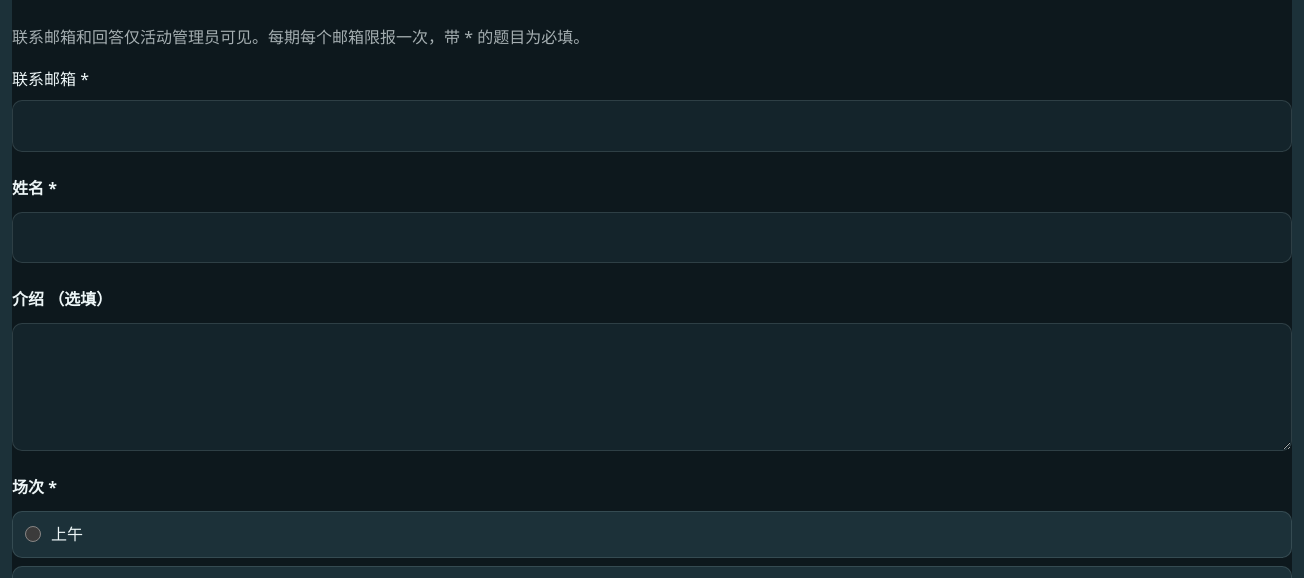
Test: inline learning survey registration › reuses a learning receipt saved before a failed submit and preserves other surveys
This screenshot has width=1304, height=578.
Expected: the field named "姓名" is shown, [12,212,1292,263]
Type "guest@example.com" into the field labelled "联系邮箱 *" at (652, 126), box [12,100,1292,152]
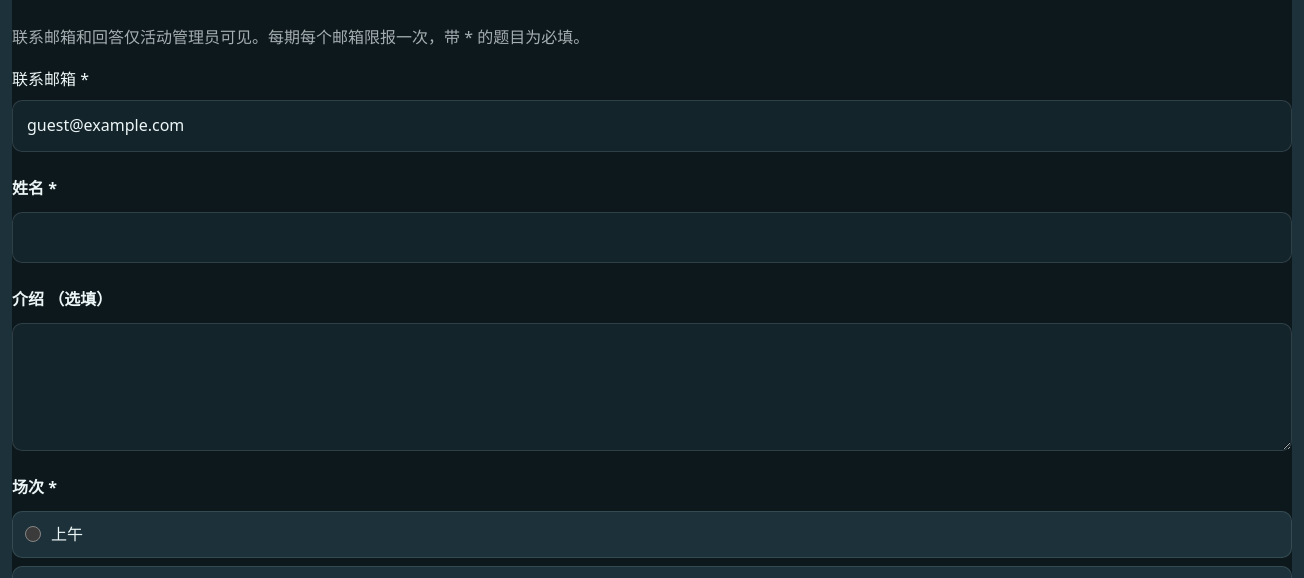
Type "Guest" into the field named "姓名" at (652, 237), box [12,212,1292,263]
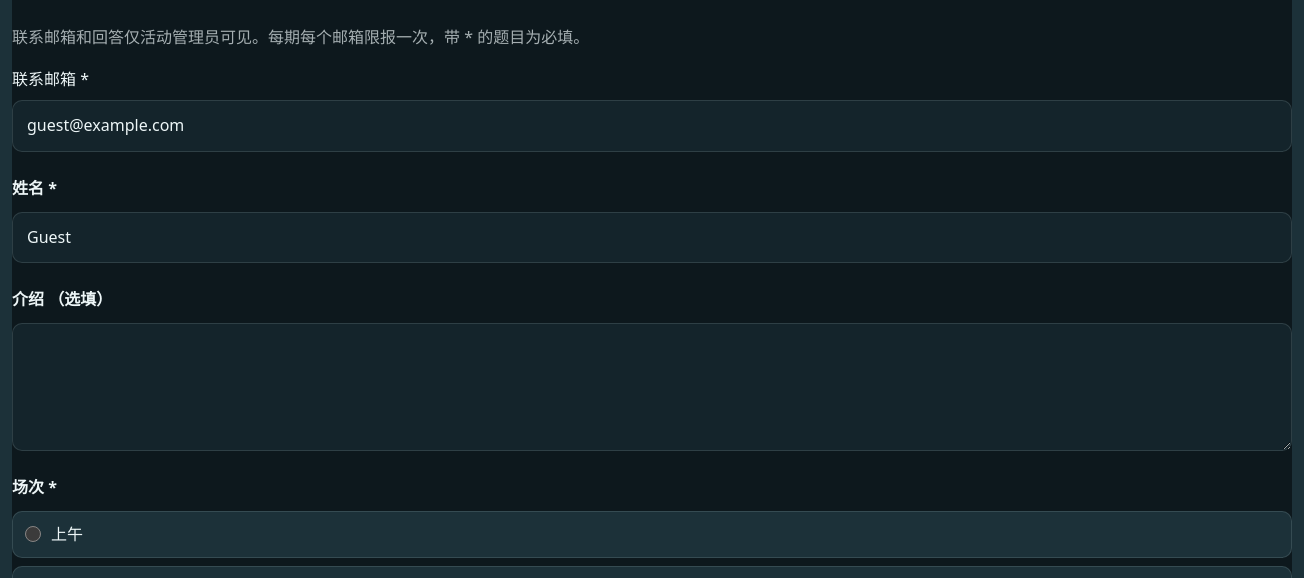
Type "Draft" into the text box named "介绍" at (652, 387), box [12,323,1292,451]
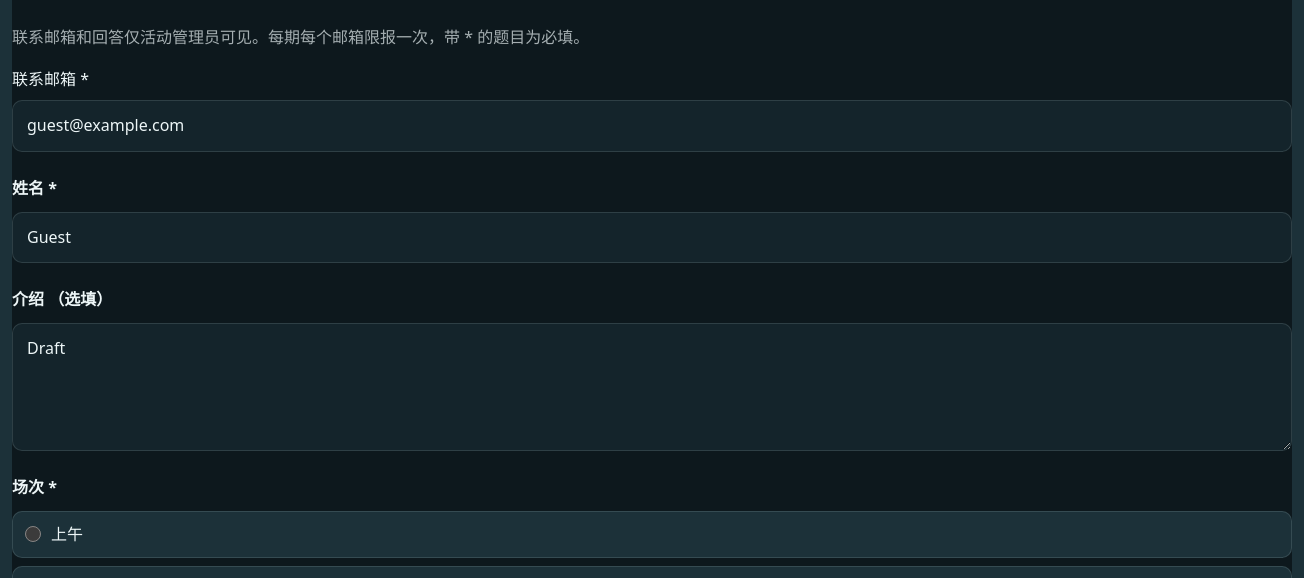
Click the radio button labelled "上午" at (33, 534), box [25,526,41,542]
(page scrolled)
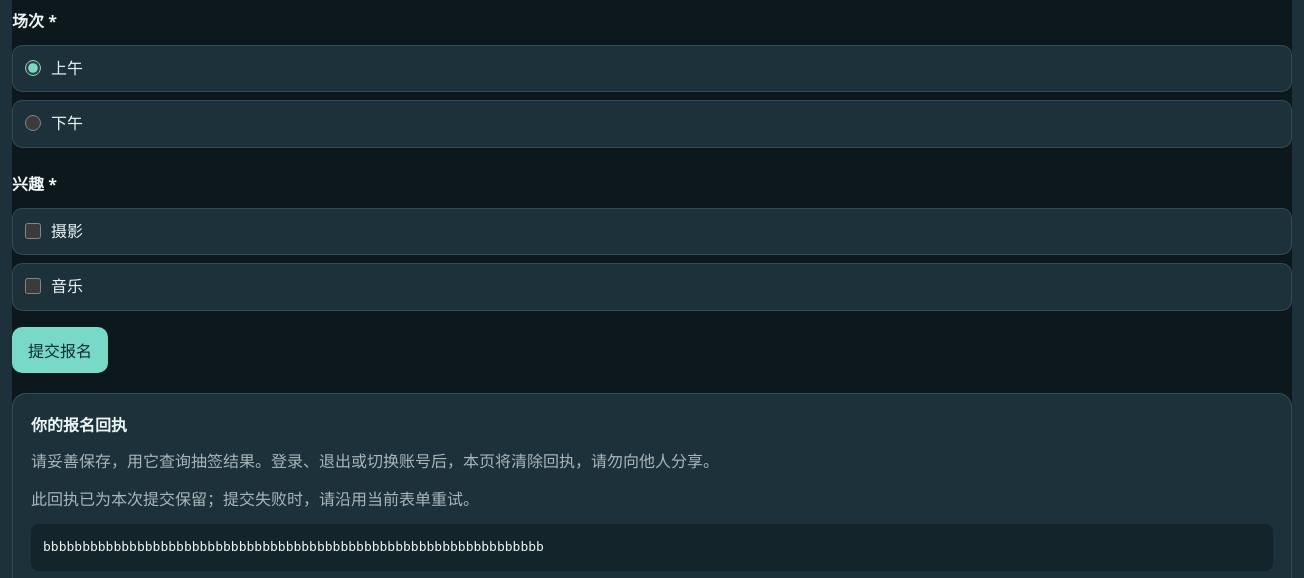
Click the checkbox labelled "摄影" at (33, 230), box [25,222,41,238]
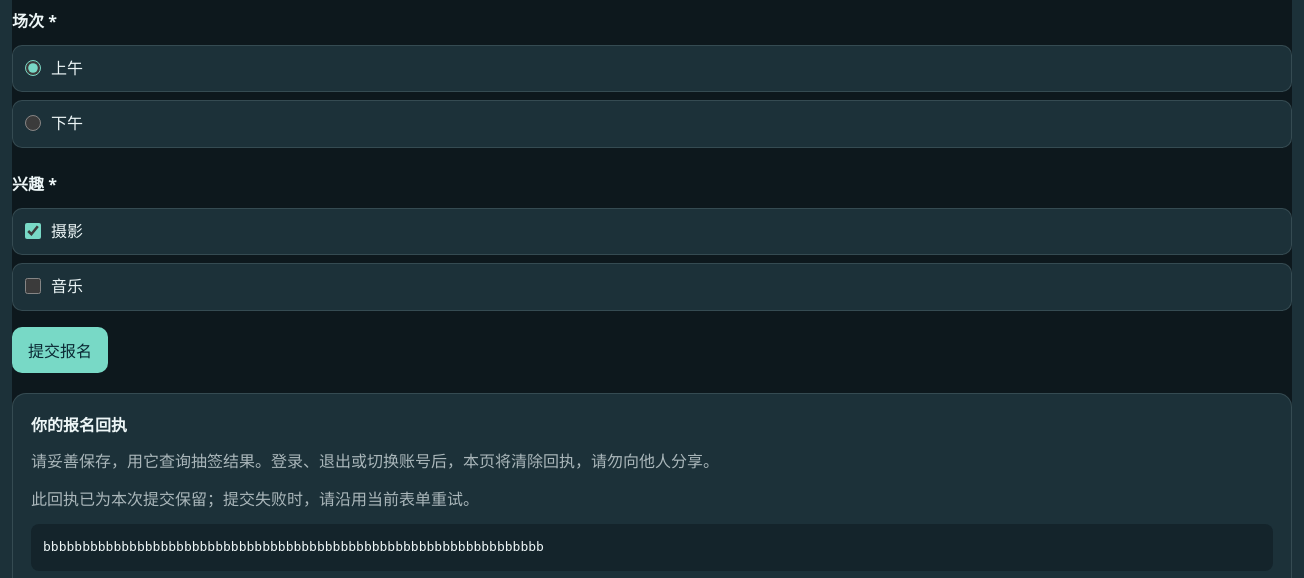
Click the button "提交报名" at (60, 350), box [12,327,108,373]
(page scrolled)
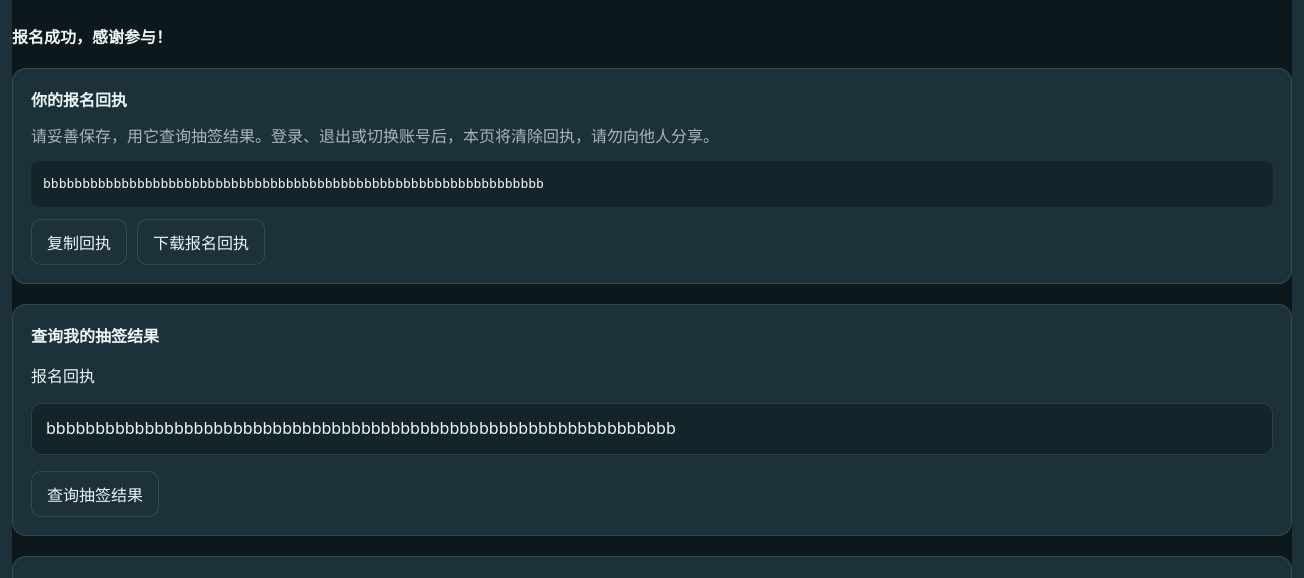
Result: the heading "报名成功，感谢参与！" is shown at [12,26,172,48]
